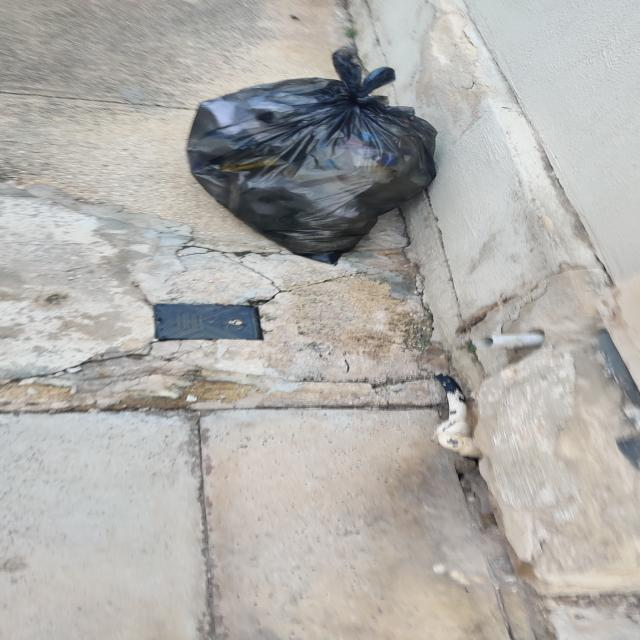Mixed Waste -Black Bags-: (184, 48, 440, 261)
